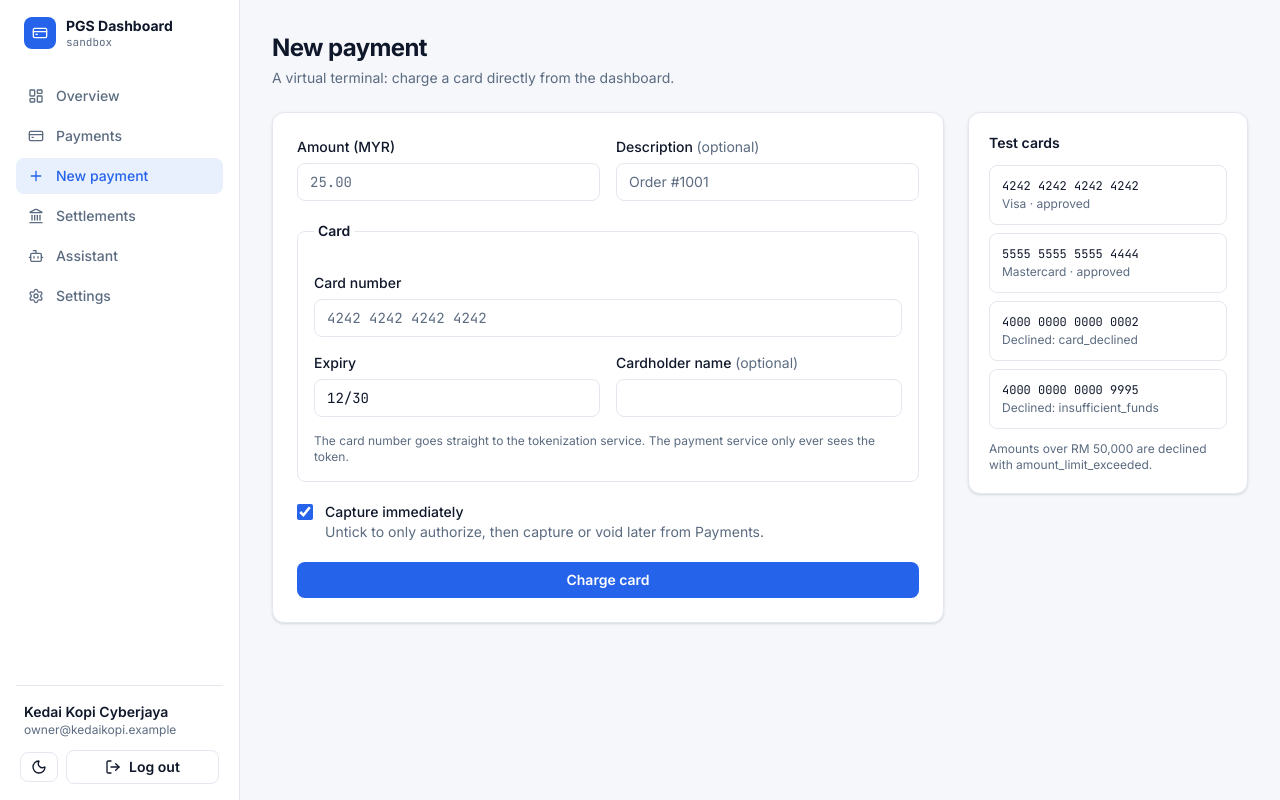
Test case: new payment › validates the form
Click the button "Charge card" at point(608, 580), box [297, 562, 919, 598]
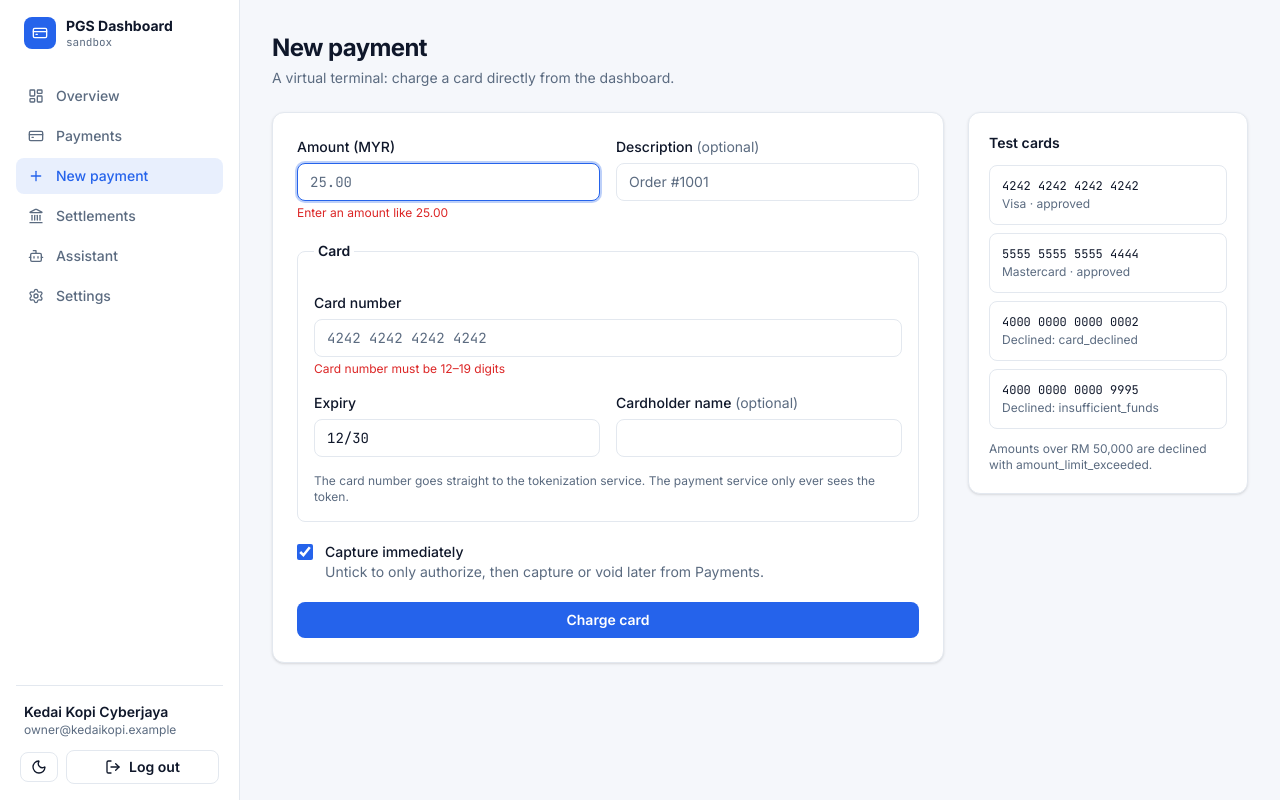
Expected: the text "Enter an amount like 25.00" is shown, [297, 205, 448, 220]
Expected: the text "Card number must be 12–19 digits" is shown, [314, 361, 505, 376]
